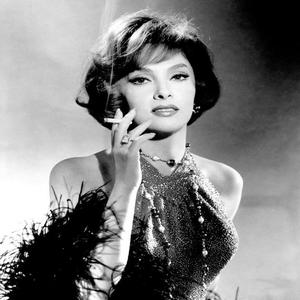cigarette: (100, 116, 135, 127)
